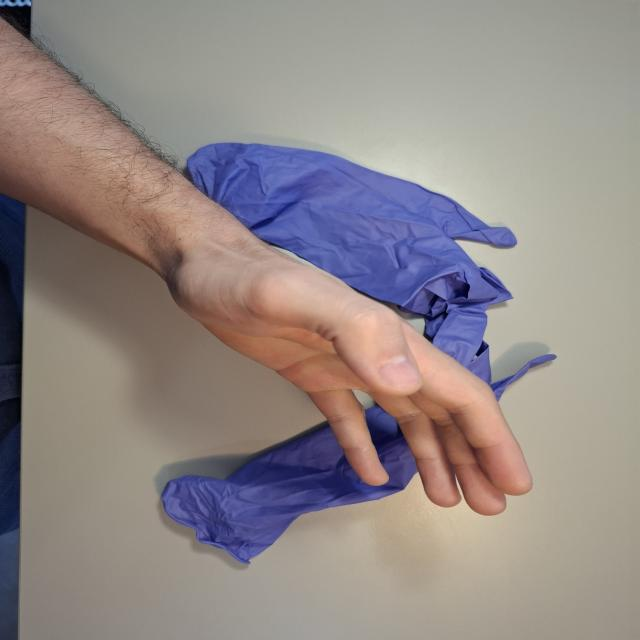glove_off: (158, 235, 538, 517)
